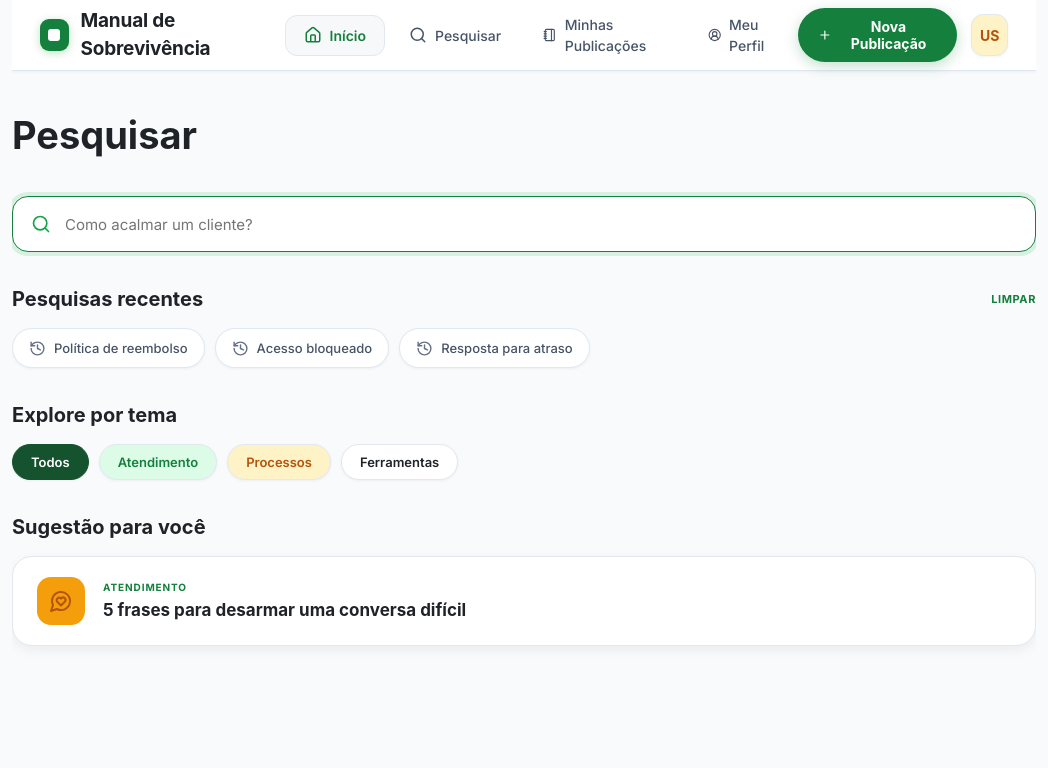
Test: Search Page › permite limpar o histórico de buscas recentes
This screenshot has width=1048, height=768.
Check: the text "Política de reembolso" is shown, box [54,340,188,356]
Click the button "LIMPAR" at {"x": 1014, "y": 299}, box [991,292,1036,306]
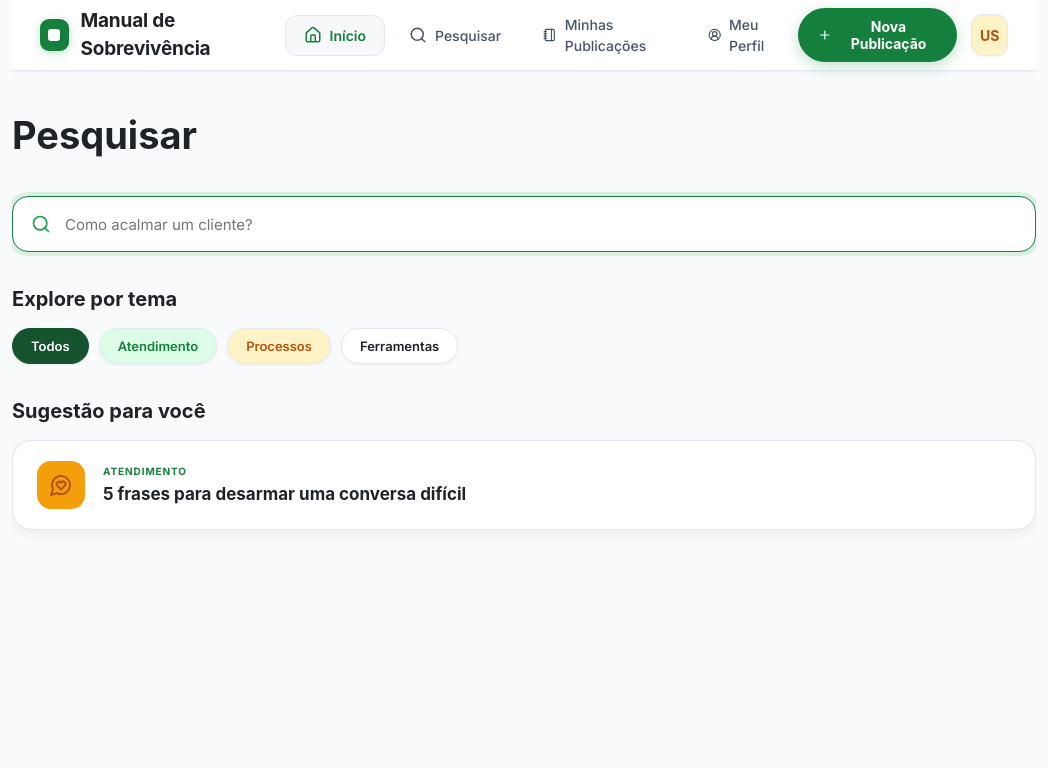
Check: the heading "Pesquisas recentes" is gone
